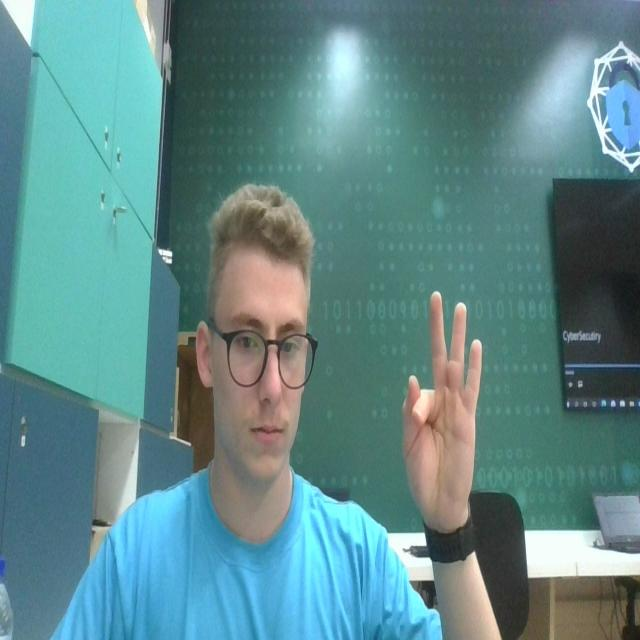F: (397, 282, 488, 538)
